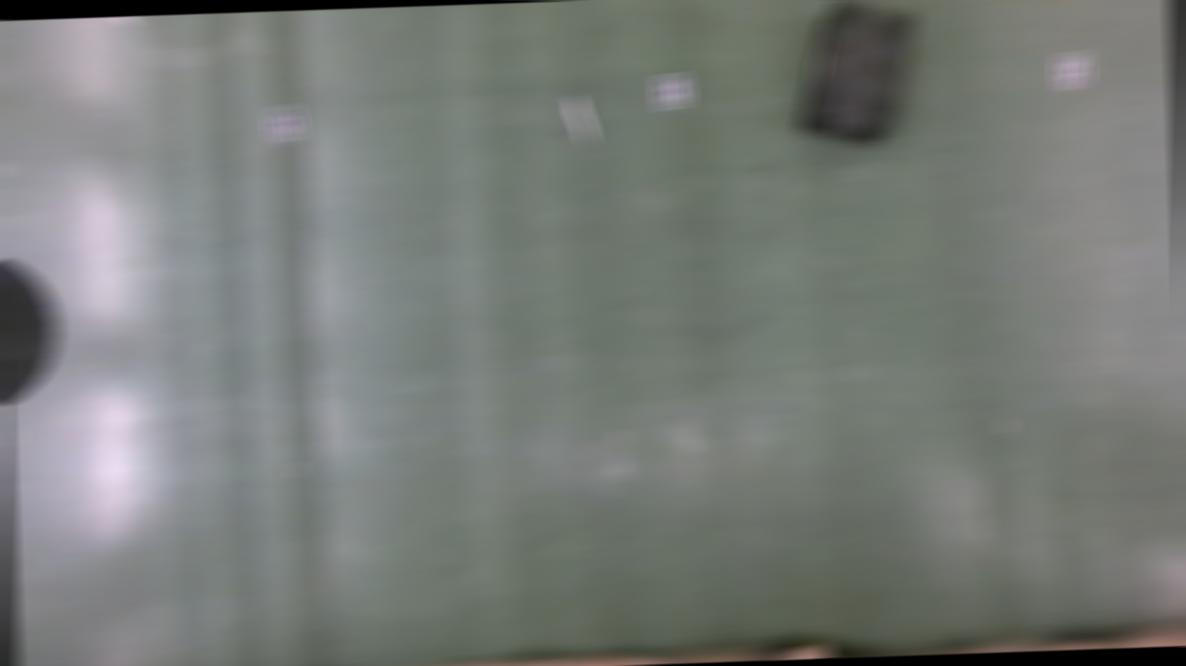probes: (566, 95, 592, 146)
rako: (792, 0, 923, 150)
